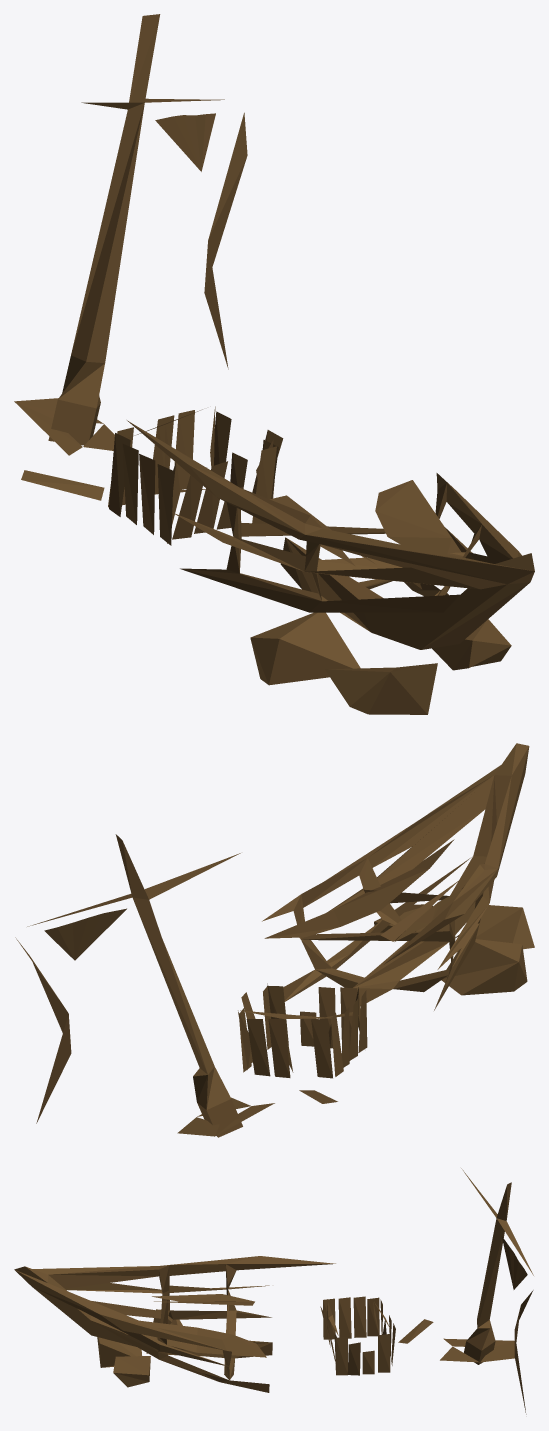
Rendered from beach-wreck.lod2.glb.
3 renders of one model, top to bottom at view 1: azimuth 30°, elevation 25°; view 2: azimuth 150°, elevation 25°; view 3: azimuth 270°, elevation 25°, orthographic. The views are drawn at different scales.
Visible parts, largest first — view 1: Cube.002_0; view 2: Cube.002_0; view 3: Cube.002_0.
Boxes of the visible parts, bbox=[...] form: Cube.002_0: bbox=[14, 14, 534, 714]; Cube.002_0: bbox=[15, 743, 534, 1137]; Cube.002_0: bbox=[14, 1168, 533, 1414].
Bounding box in the file's own units: 4.47 × 5.14 × 11.41.
